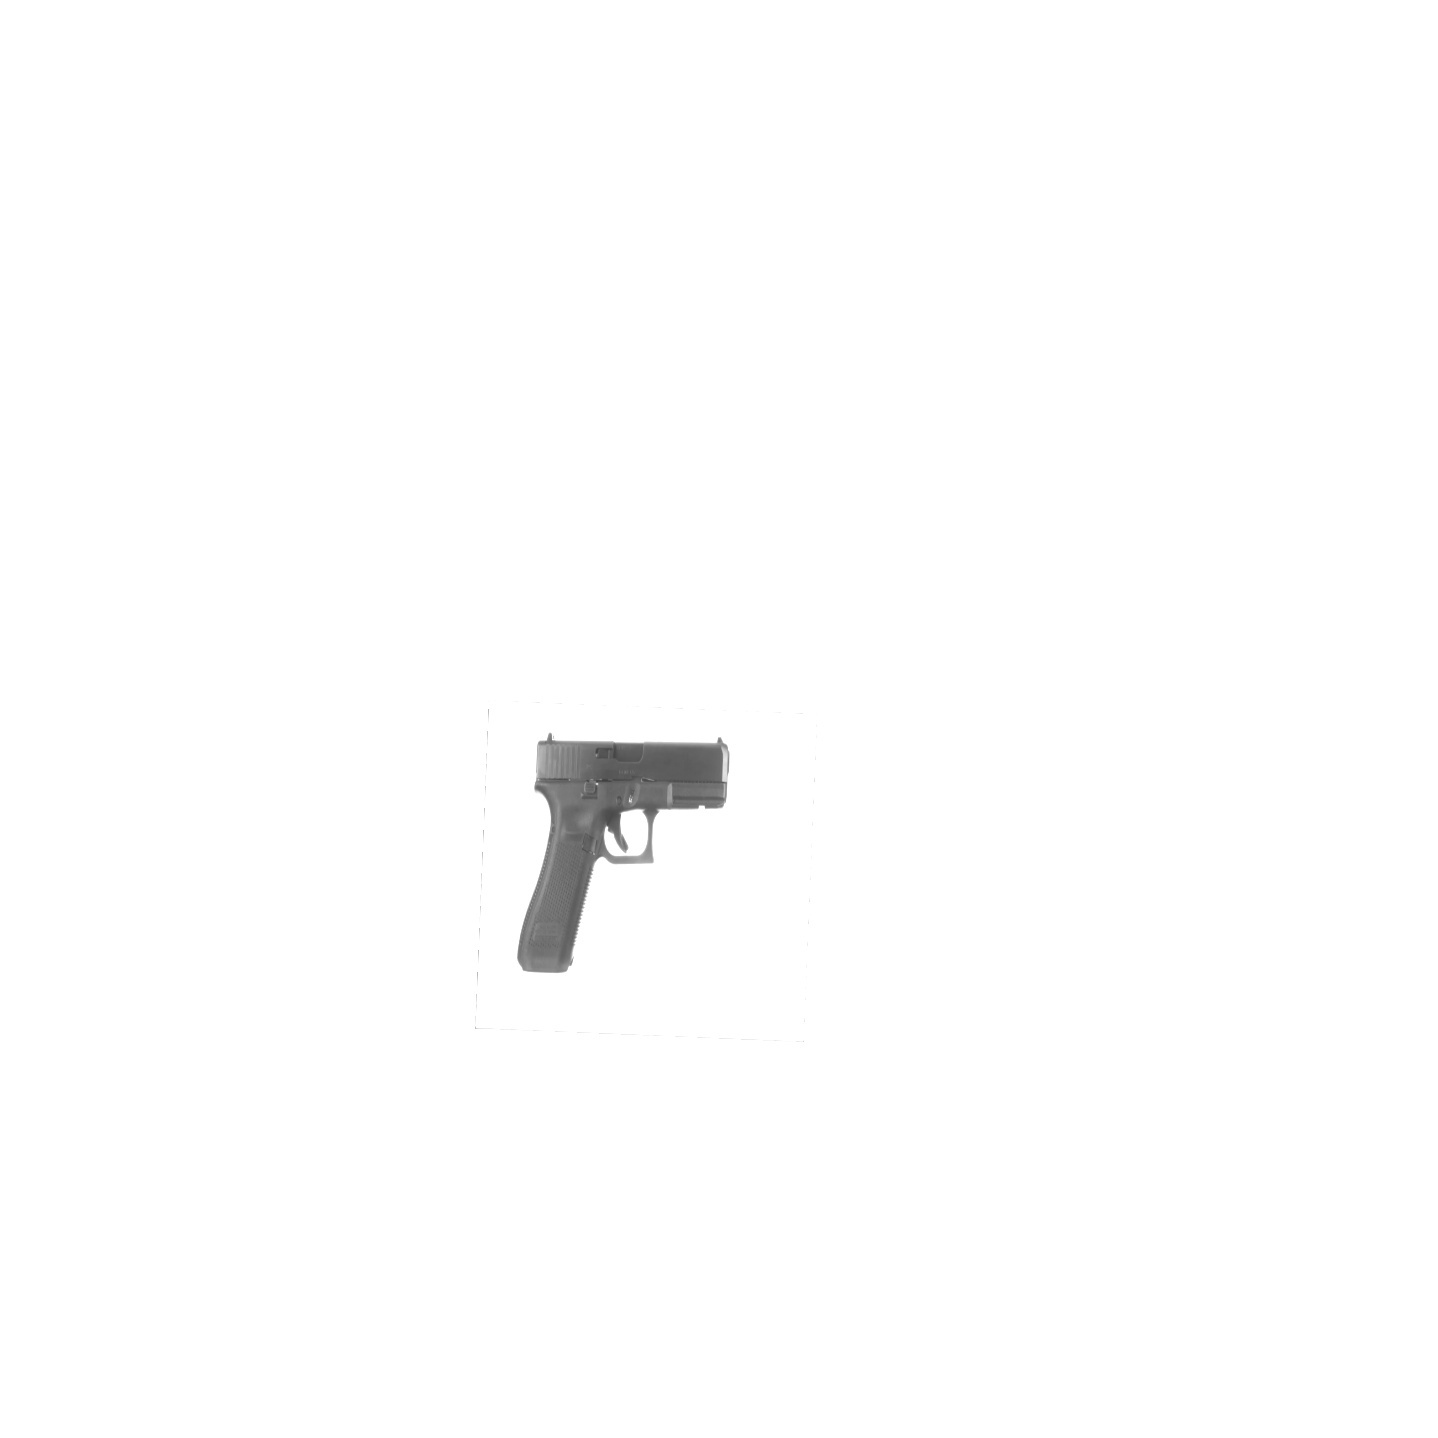gun: (506, 723, 747, 992)
